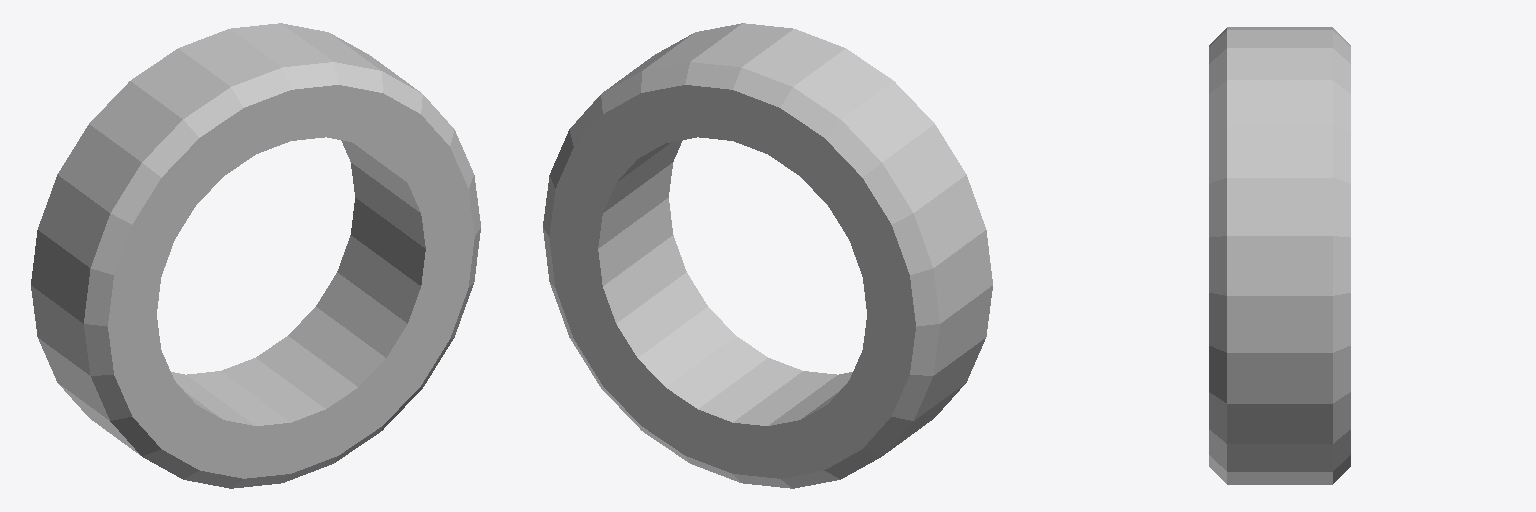
The model's file is tyre.obj.
3 renders of one model, left to right at view 1: azimuth 30°, elevation 25°; view 2: azimuth 150°, elevation 25°; view 3: azimuth 270°, elevation 25°, orthographic.
Visible parts, largest first — view 1: SketchUp; view 2: SketchUp; view 3: SketchUp.
Boxes of the visible parts, x1=… form: SketchUp: x1=31, y1=23, x2=480, y2=488; SketchUp: x1=543, y1=23, x2=992, y2=488; SketchUp: x1=1209, y1=27, x2=1350, y2=484.
Size of the model in its own units: 2.56 by 2.56 by 0.7874.